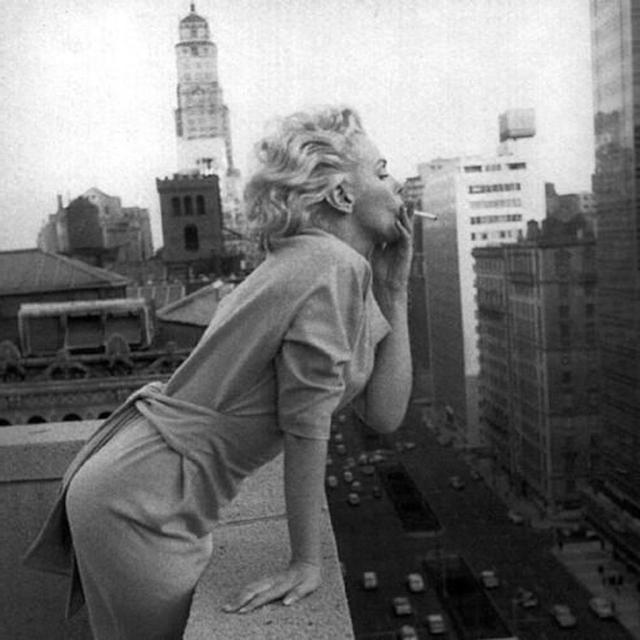smoking: (268, 107, 439, 247)
